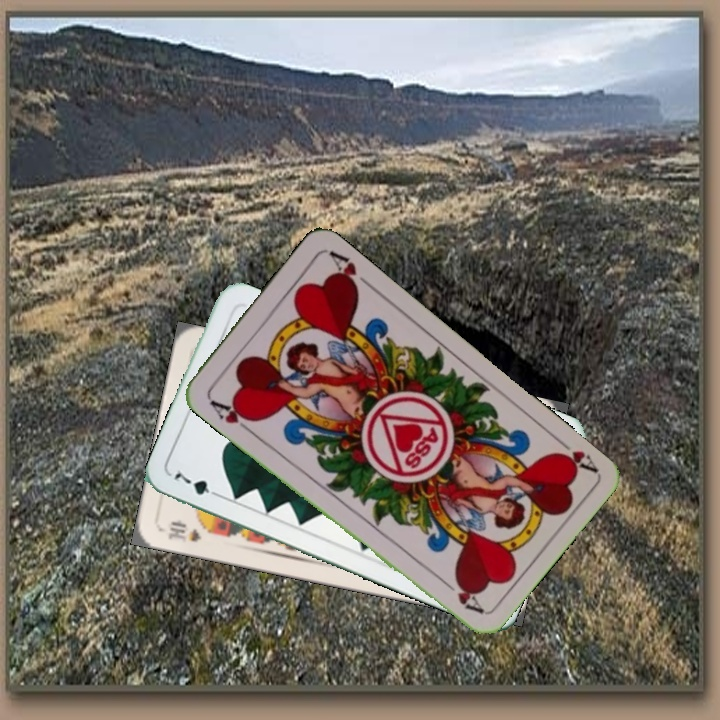G7: (170, 465, 225, 501)
HA: (204, 392, 257, 435), (549, 431, 599, 476)
S10: (164, 517, 204, 545)
